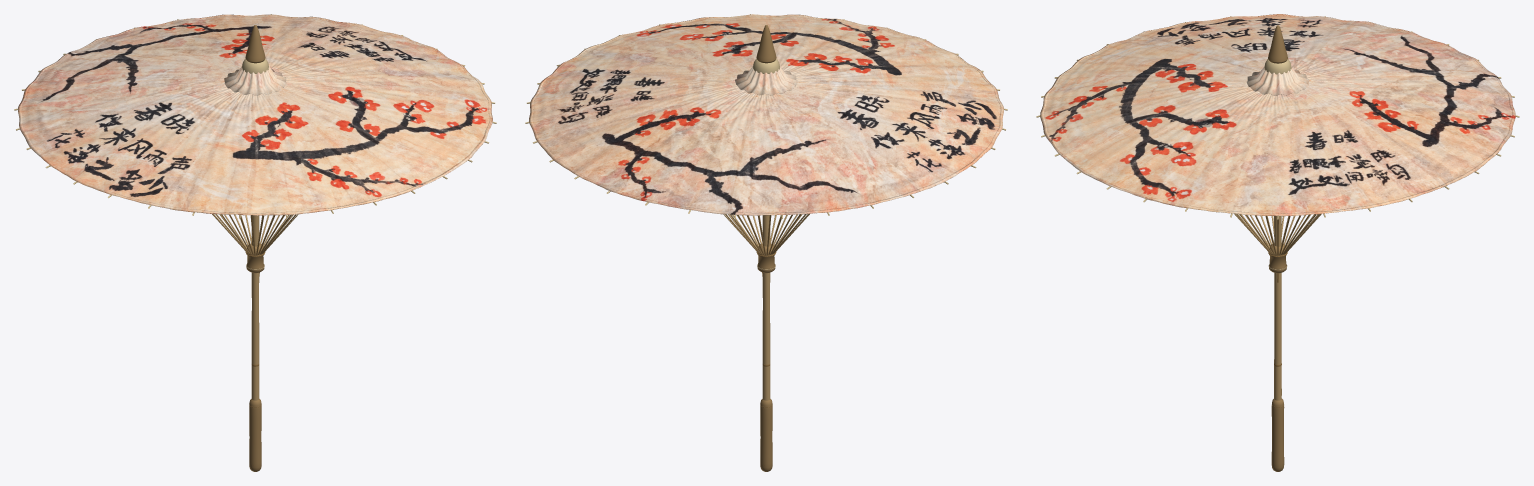
Rendered from umbrella.glb.
3 renders of one model, left to right at view 1: azimuth 30°, elevation 25°; view 2: azimuth 150°, elevation 25°; view 3: azimuth 270°, elevation 25°, orthographic.
Visible parts, largest first — view 1: 油纸伞面 • 32 softly folded panels, 边缘 • doubled oil-paper hem, Center shaft | continuous bamboo, 伞顶 • folded paper reinforcement rosette, Hand grip | hand-polished turned wood, 伞帽 • hand-turned wooden crown; view 2: 油纸伞面 • 32 softly folded panels, 边缘 • doubled oil-paper hem, Center shaft | continuous bamboo, 伞顶 • folded paper reinforcement rosette, Hand grip | hand-polished turned wood, 伞帽 • hand-turned wooden crown; view 3: 油纸伞面 • 32 softly folded panels, 边缘 • doubled oil-paper hem, 伞顶 • folded paper reinforcement rosette, Center shaft | continuous bamboo, Hand grip | hand-polished turned wood, 伞帽 • hand-turned wooden crown.
Part boxes in pixels (x1,y1,x2,y2): 油纸伞面 • 32 softly folded panels: (20, 15, 490, 215); 边缘 • doubled oil-paper hem: (18, 14, 492, 215); Center shaft | continuous bamboo: (251, 215, 259, 400); 伞顶 • folded paper reinforcement rosette: (224, 66, 286, 95); Hand grip | hand-polished turned wood: (249, 399, 261, 471); 伞帽 • hand-turned wooden crown: (245, 25, 265, 63); 油纸伞面 • 32 softly folded panels: (532, 14, 1000, 215); 边缘 • doubled oil-paper hem: (529, 14, 1003, 215); Center shaft | continuous bamboo: (762, 215, 770, 400); 伞顶 • folded paper reinforcement rosette: (735, 66, 797, 95); Hand grip | hand-polished turned wood: (760, 399, 772, 471); 伞帽 • hand-turned wooden crown: (756, 25, 776, 63); 油纸伞面 • 32 softly folded panels: (1043, 15, 1512, 216); 边缘 • doubled oil-paper hem: (1040, 14, 1515, 215); 伞顶 • folded paper reinforcement rosette: (1246, 66, 1309, 95); Center shaft | continuous bamboo: (1274, 216, 1281, 400); Hand grip | hand-polished turned wood: (1271, 398, 1284, 471); 伞帽 • hand-turned wooden crown: (1268, 25, 1287, 63).
Size of the model in its own units: 1.2 by 1.22 by 1.2.
7 materials, 2 textured.
